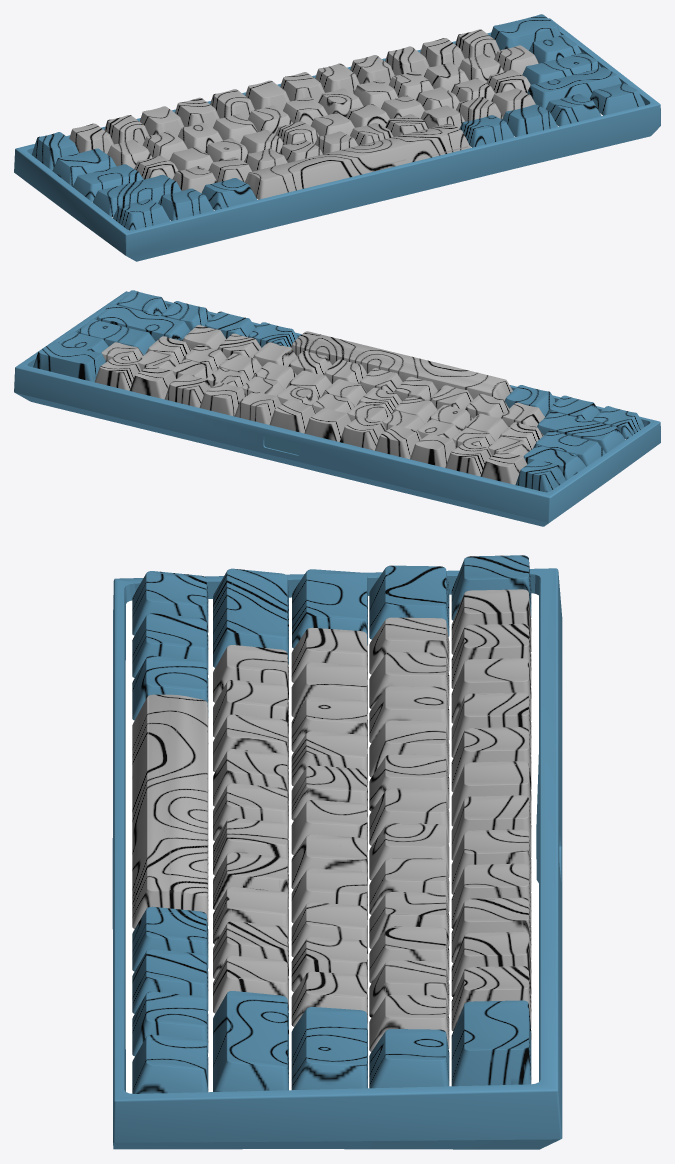
The model's file is Keyboard.glb.
The picture shows the model from 3 angles, top to bottom: view 1: azimuth 30°, elevation 25°; view 2: azimuth 150°, elevation 25°; view 3: azimuth 270°, elevation 25°; orthographic projection. The views are drawn at different scales.
Visible parts, largest first — view 1: Cube.003_12; view 2: Cube.003_12; view 3: Cube.003_12.
Part boxes in pixels (x1,y1,x2,y2): Cube.003_12: [14, 14, 660, 261]; Cube.003_12: [14, 290, 660, 526]; Cube.003_12: [112, 555, 562, 1149].
Size of the model in its own units: 0.5521 by 0.0496 by 0.2002.
Materials: 5 (2 with a texture image).
